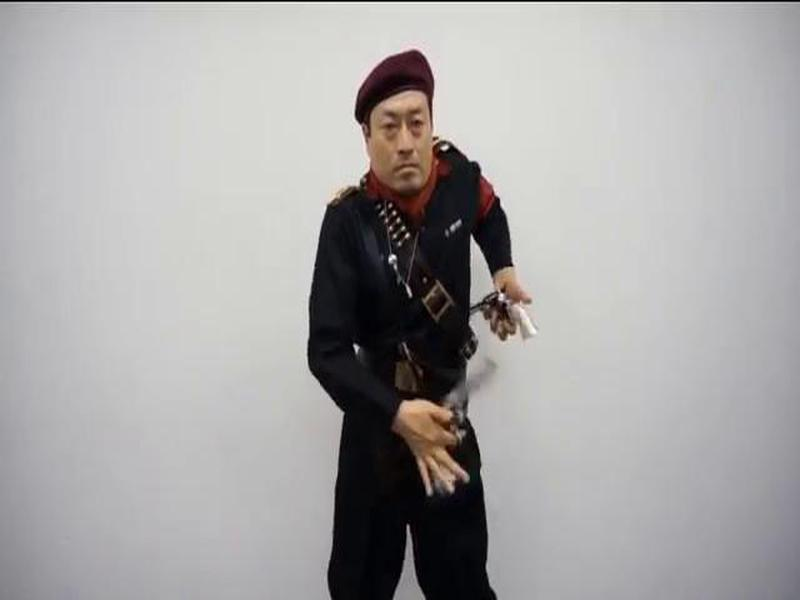Revolver: (456, 284, 551, 354)
